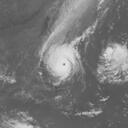cyclone: (43, 42, 81, 80)
